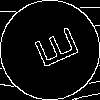E: (25, 25, 80, 74)
